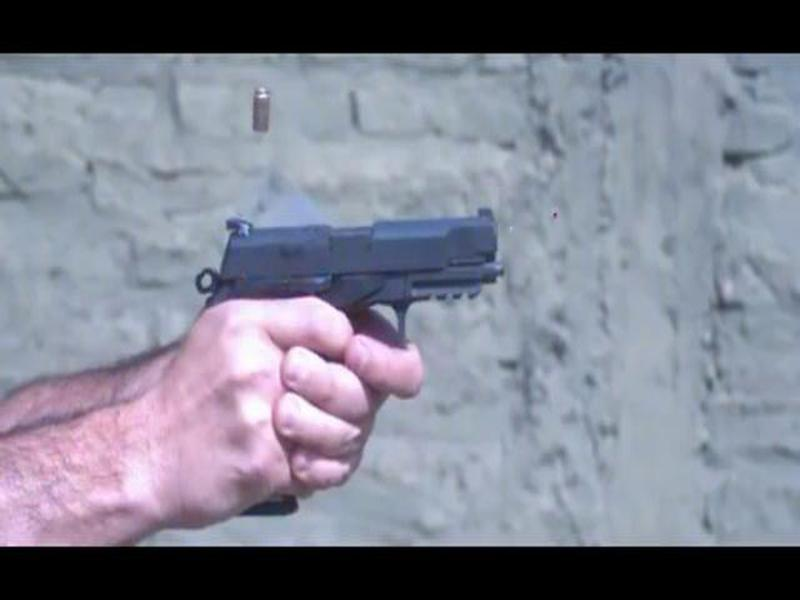Pistola: (153, 188, 634, 402)
